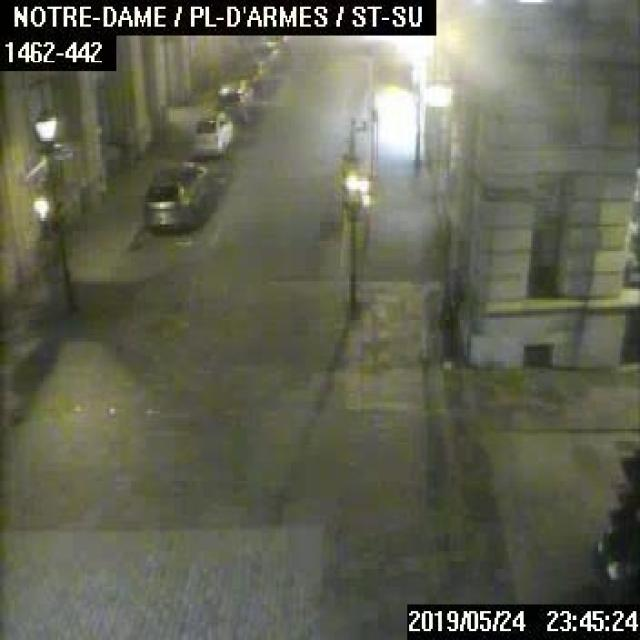pedestrian: (442, 265, 463, 357), (418, 277, 441, 360)
vehicle: (144, 159, 211, 236), (193, 108, 235, 155), (216, 80, 253, 122)
